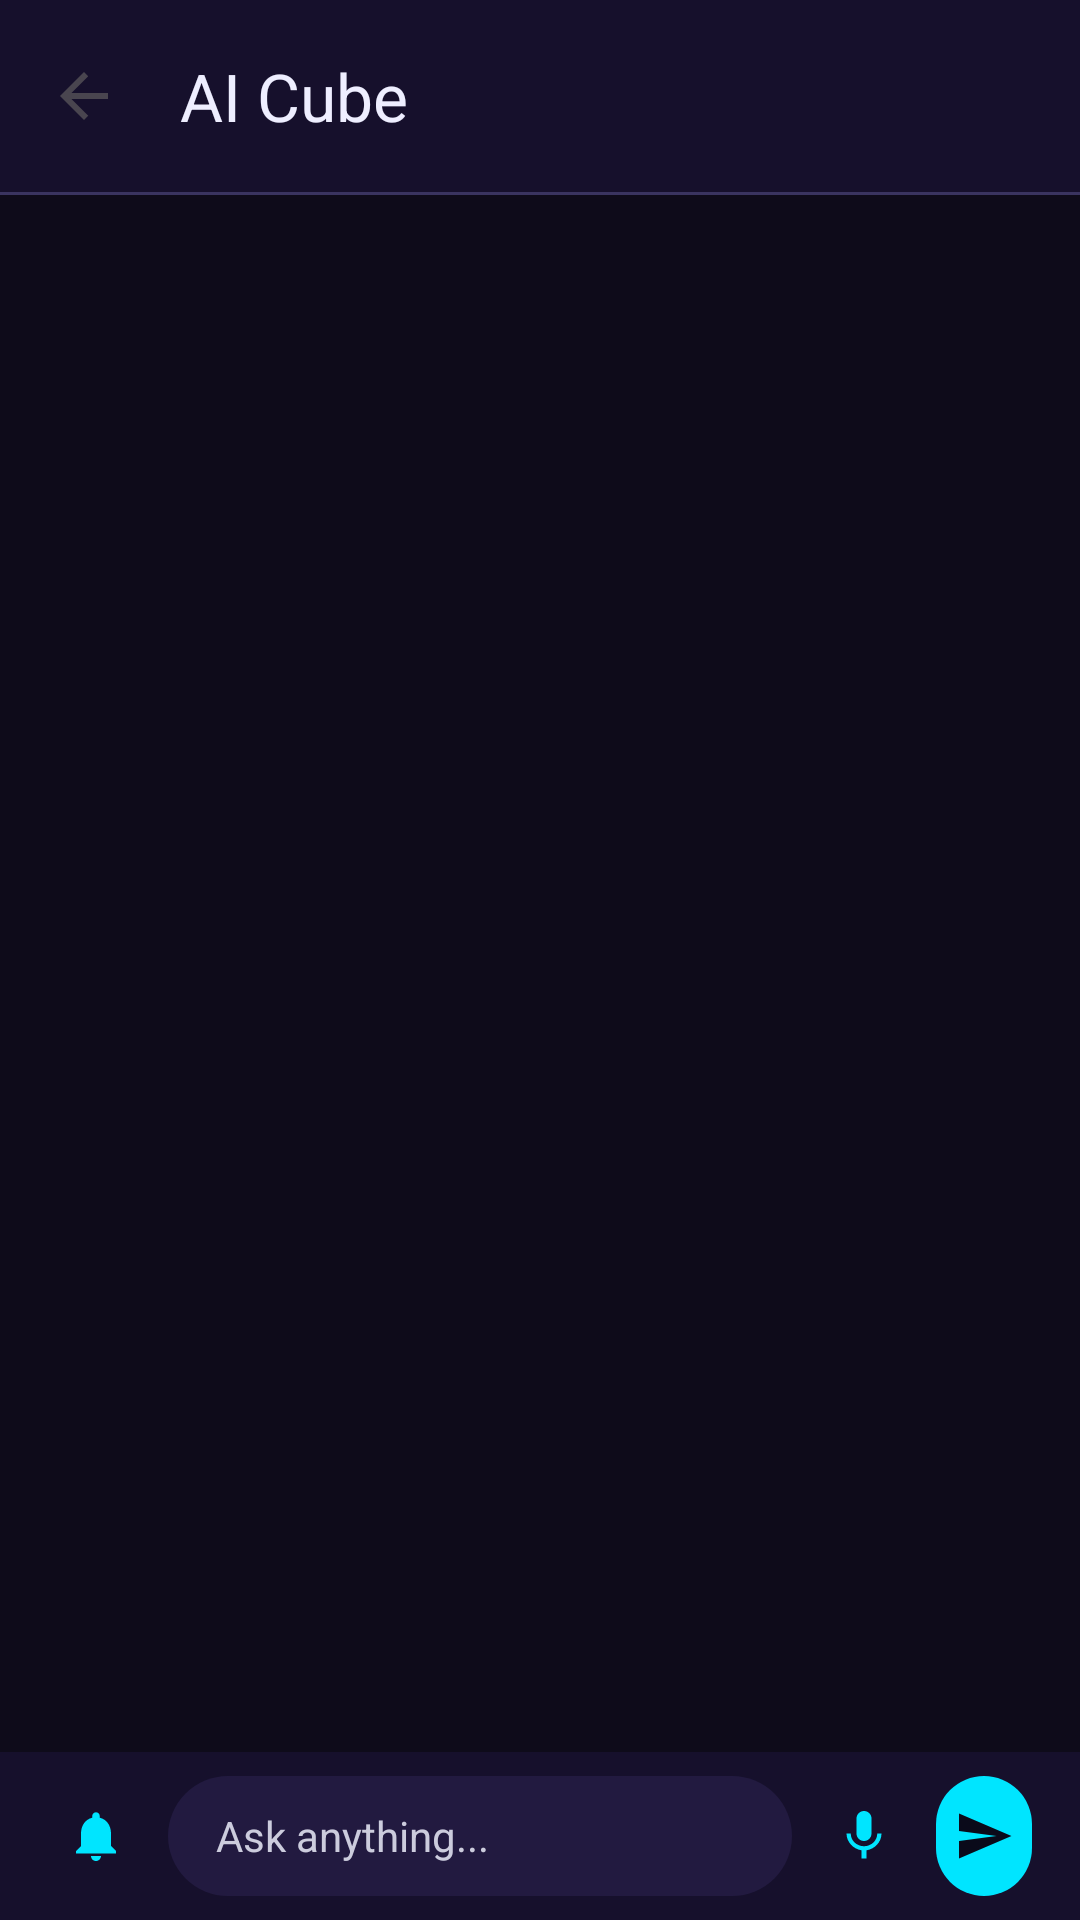

Named icons in this screenshot (1080×1920) and their centers, (x=x, y=y):
Send: (x=984, y=1836)
Voice input: (x=864, y=1835)
Wake device: (x=96, y=1836)
